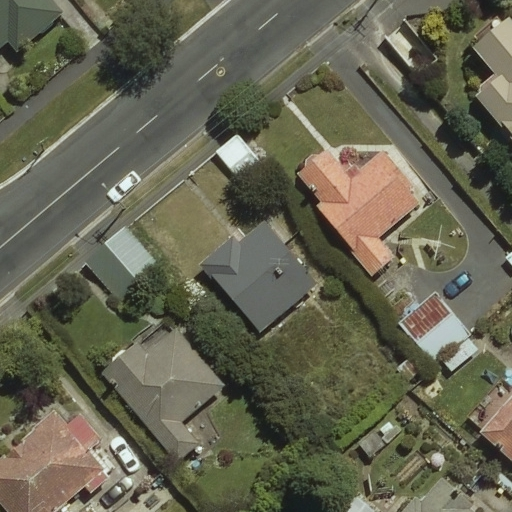DT: (99, 177, 134, 215), (345, 8, 370, 37)
